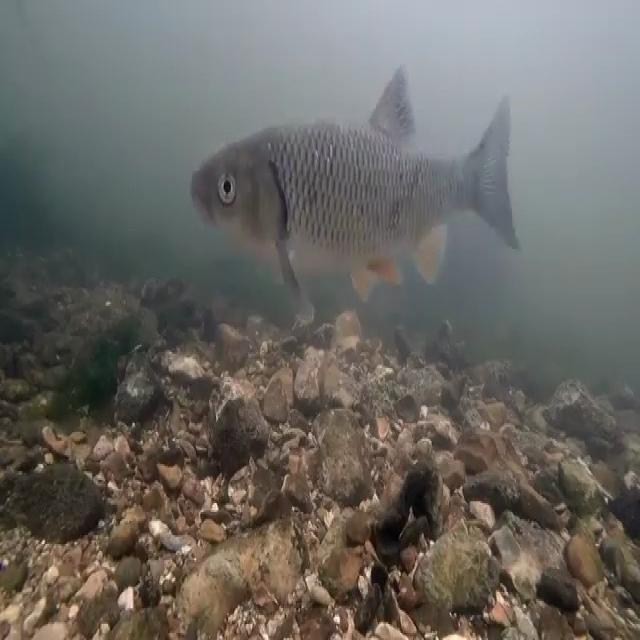Cakil Baligi: (191, 57, 527, 307)
